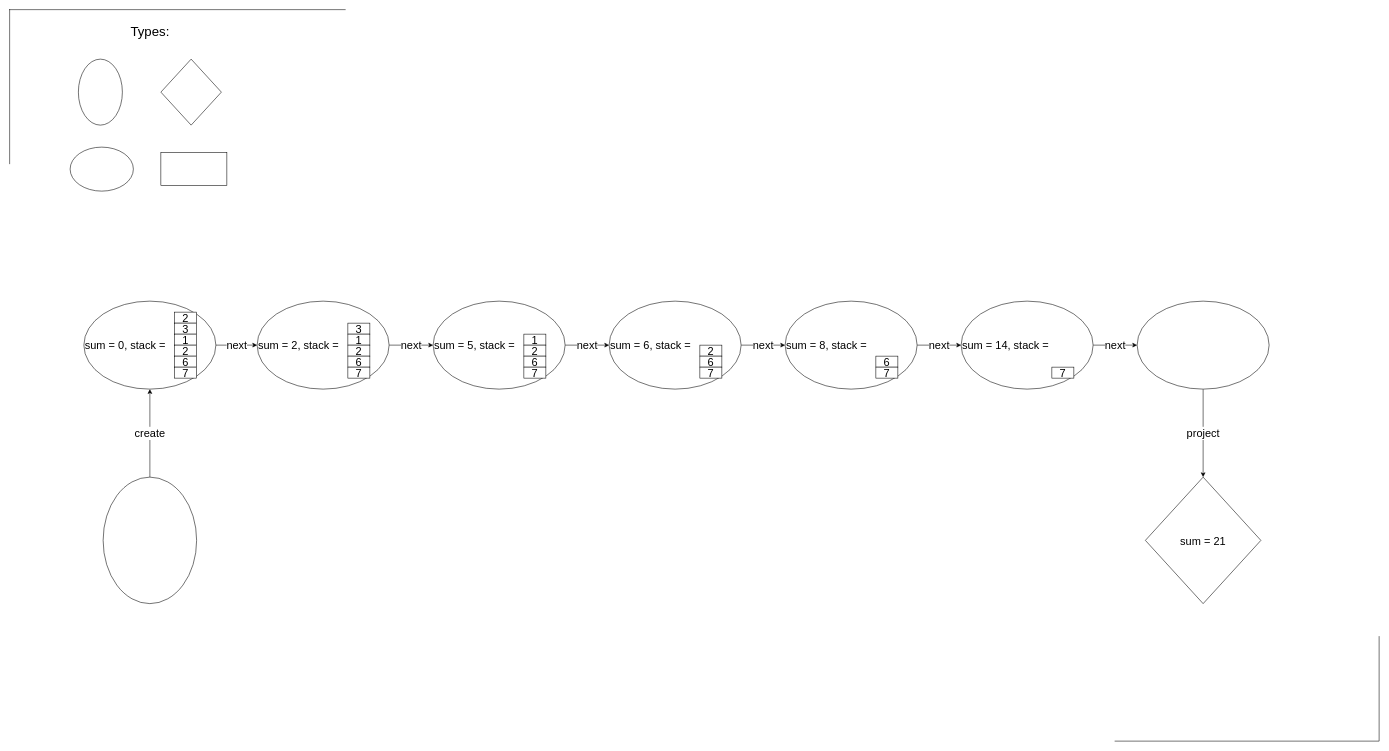
Image size: 1389x751. Some labels were removed from this diagram. The shapes that lost their labels are listed below. From the top down, each one's centre as x and y in pixels, then its label:
pixel 100 92: Seed
pixel 190 92: Image
pixel 101 169: State
pixel 193 169: bytes32
pixel 1203 345: sum = 21, stack =
pixel 150 540: nums = [2, 3, 1, 2, 6, 7]
